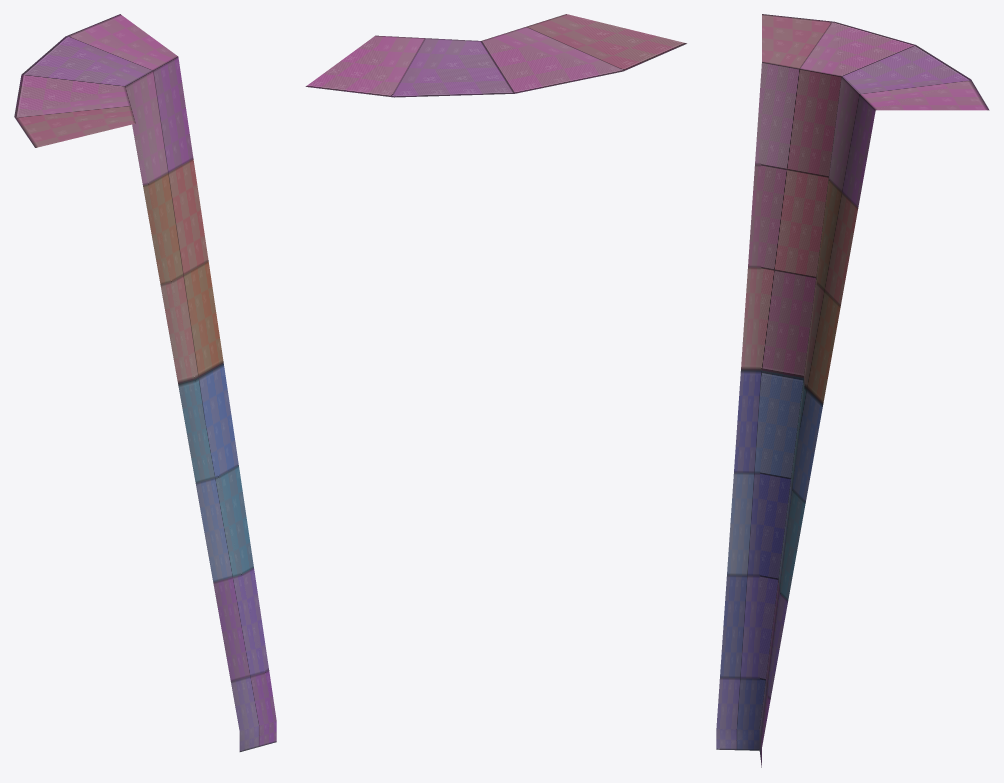
The model's file is tile_wall_corner_convex.glb.
3 views of the same model, side by side, from view 1: azimuth 30°, elevation 25°; view 2: azimuth 150°, elevation 25°; view 3: azimuth 270°, elevation 25° (orthographic). The views are drawn at different scales.
Visible parts, largest first — view 1: tile_wall_corner_convex; view 2: tile_wall_corner_convex; view 3: tile_wall_corner_convex.
Part boxes in pixels (left/top/right/bottom): tile_wall_corner_convex: left=14, top=14, right=276, bottom=751; tile_wall_corner_convex: left=305, top=14, right=686, bottom=97; tile_wall_corner_convex: left=716, top=14, right=989, bottom=767.
Size of the model in its own units: 1.2 by 3.1 by 1.2.
1 material, 1 textured.
